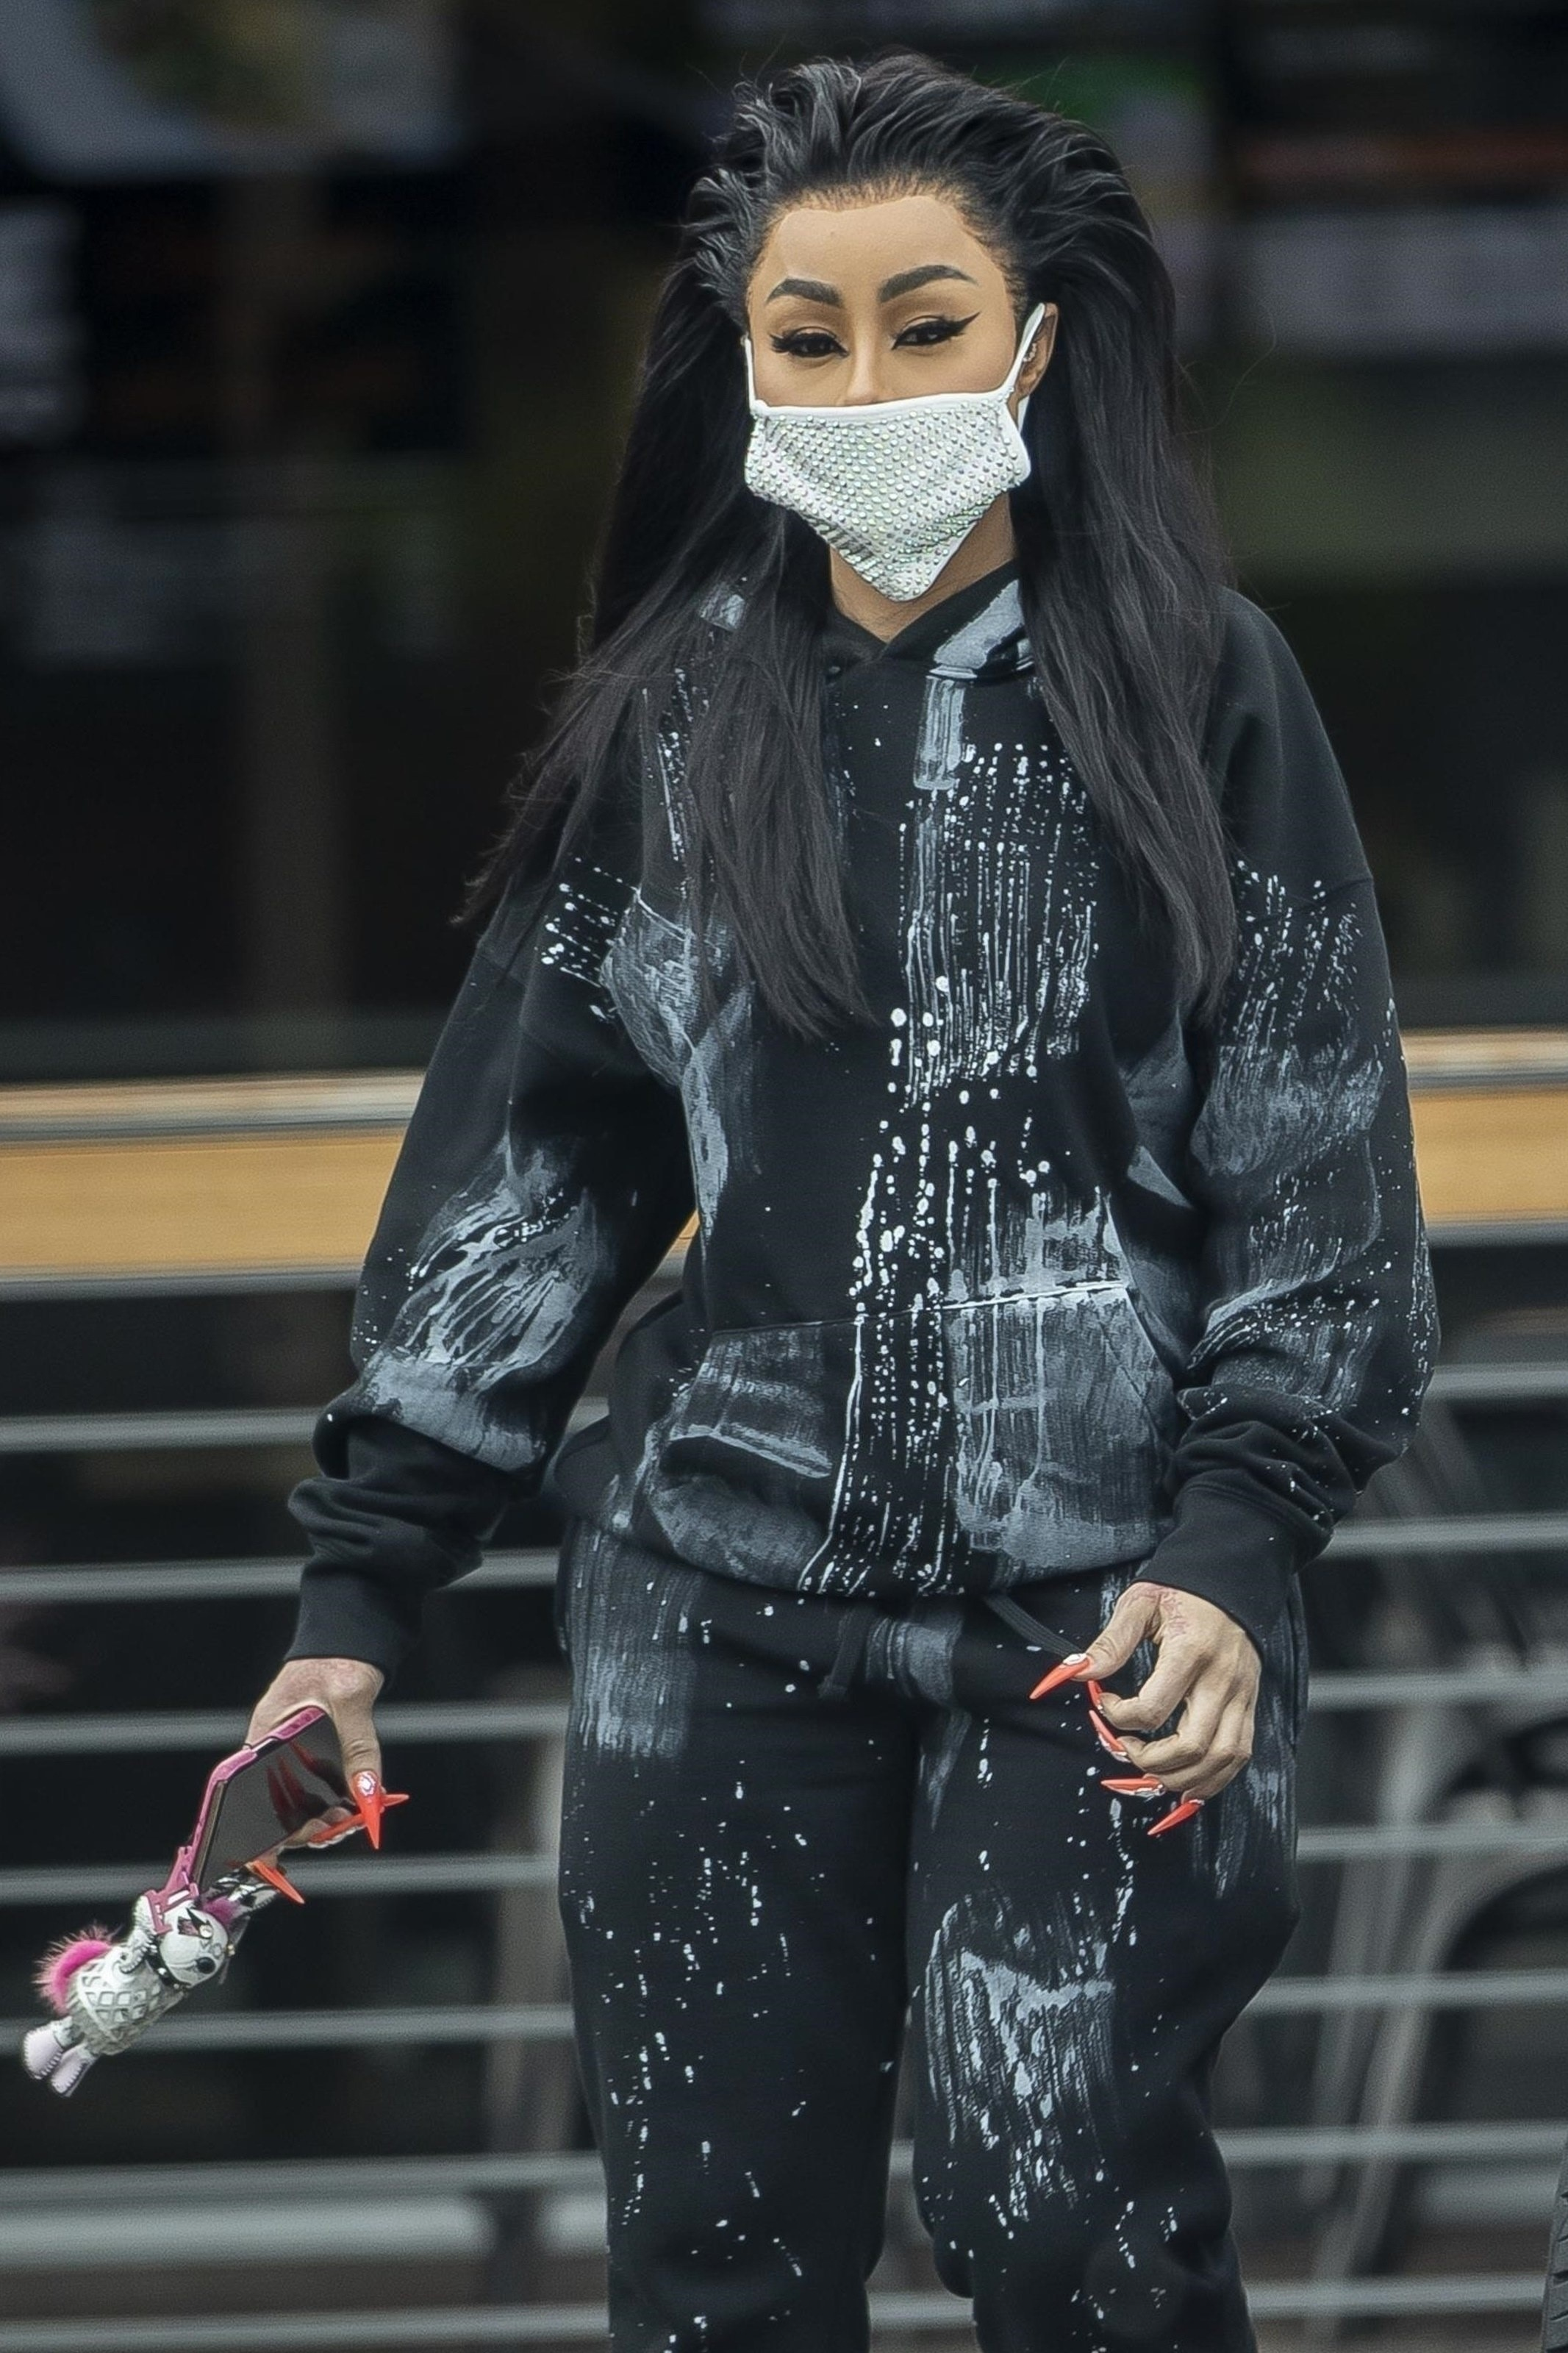face_with_mask: (665, 69, 1126, 605)
